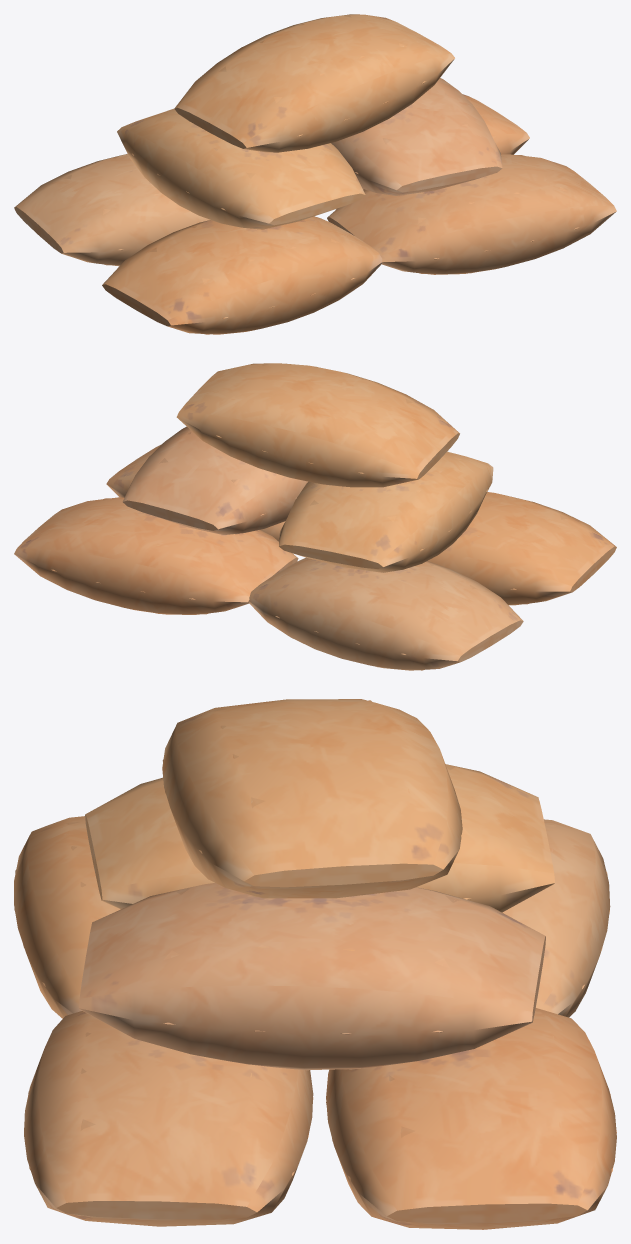
Rendered from sacks.bundle.fbx.
The picture shows the model from 3 angles, top to bottom: view 1: azimuth 30°, elevation 25°; view 2: azimuth 150°, elevation 25°; view 3: azimuth 270°, elevation 25°; orthographic projection. The views are drawn at different scales.
Visible parts, largest first — view 1: sacks, sacks_low; view 2: sacks, sacks_low; view 3: sacks, sacks_low.
Part boxes in pixels (left/top/right/bottom): sacks: left=14, top=14, right=616, bottom=334; sacks_low: left=14, top=15, right=578, bottom=334; sacks: left=14, top=363, right=616, bottom=670; sacks_low: left=51, top=363, right=615, bottom=670; sacks: left=14, top=699, right=616, bottom=1229; sacks_low: left=14, top=700, right=616, bottom=1222.
Bounding box in the file's own units: 6.15 × 2.61 × 3.98.
1 material, 1 textured.
